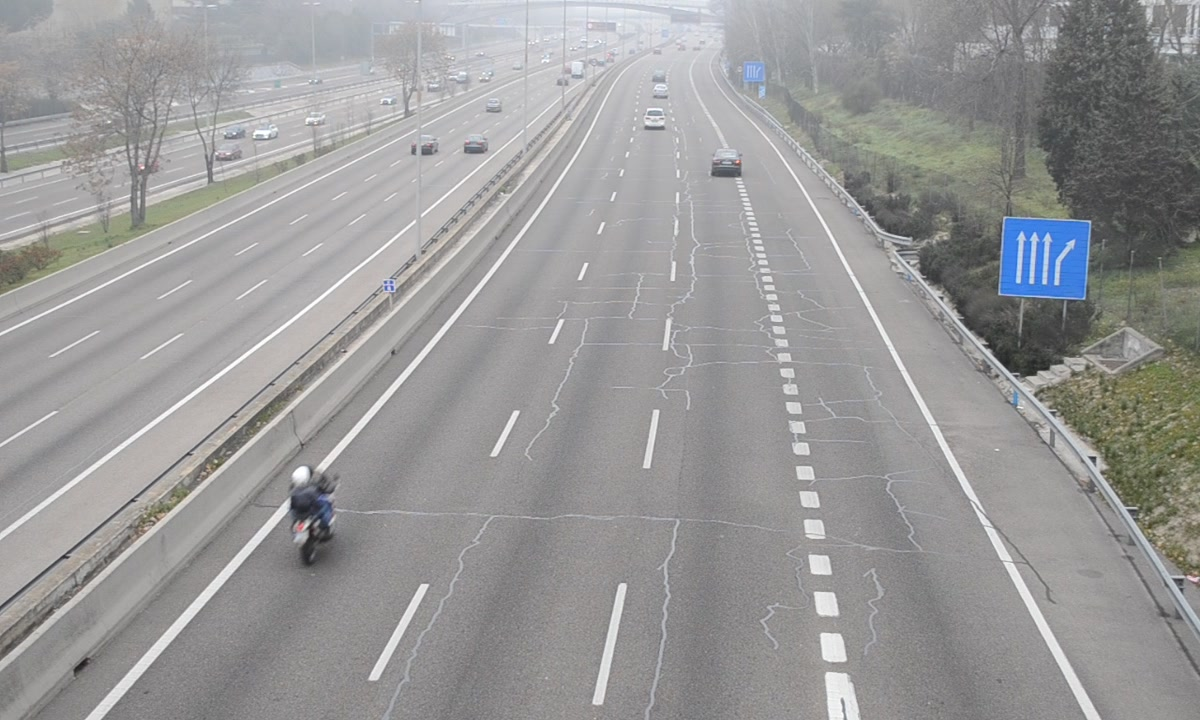car: (710, 147, 742, 176), (643, 108, 667, 132)
motorcycle: (284, 464, 338, 571)
